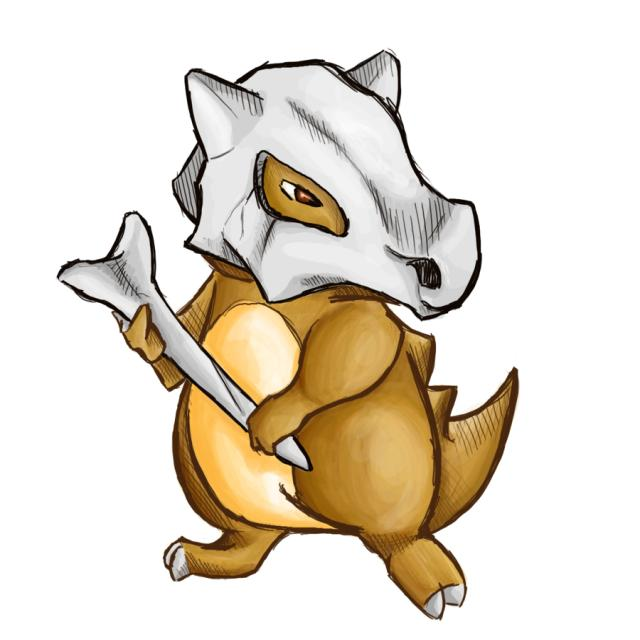Cubone: (66, 53, 510, 609)
